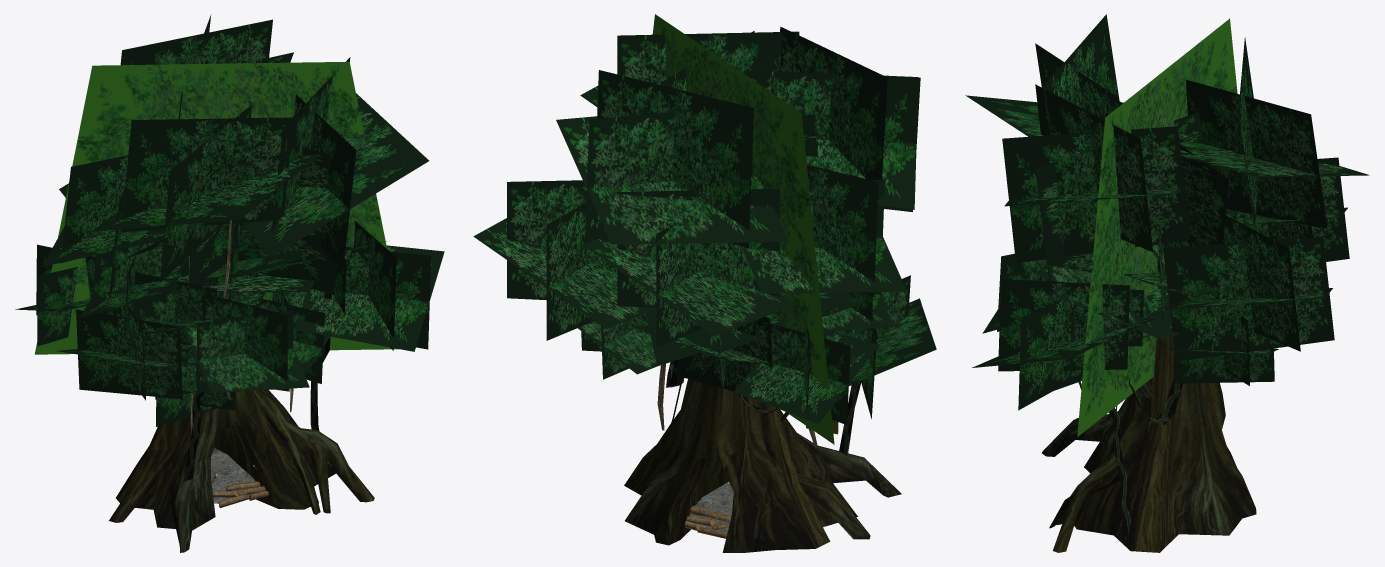
Rendered from tunnelcap_jungle2.fbx.
3 views of the same model, side by side, from view 1: azimuth 30°, elevation 25°; view 2: azimuth 150°, elevation 25°; view 3: azimuth 270°, elevation 25° (orthographic). The views are drawn at different scales.
Visible parts, largest first — view 1: pPlane1, leaf16, big_tree_trunk_trunk, leaf10, leaf17, leaf7, leaf20, leaf12, leaf21, leaf2, leaf15, leaf19 (+11 smaller); view 2: leaf21, big_tree_trunk_trunk, leaf16, pPlane1, leaf9, leaf11, leaf12, leaf19, leaf10, leaf20, leaf8, leaf4 (+5 smaller); view 3: big_tree_trunk_trunk, leaf10, leaf11, pPlane1, leaf21, leaf17, leaf16, leaf9, leaf4, leaf22, leaf15, leaf14 (+6 smaller).
Part boxes in pixels (x1,y1,x2,y2): pPlane1: [34, 61, 399, 354]; leaf16: [91, 105, 321, 282]; big_tree_trunk_trunk: [109, 263, 374, 552]; leaf10: [243, 57, 429, 270]; leaf17: [295, 221, 444, 351]; leaf7: [180, 293, 309, 393]; leaf20: [57, 293, 196, 400]; leaf12: [42, 155, 164, 298]; leaf21: [120, 14, 293, 119]; leaf2: [79, 241, 187, 337]; leaf15: [225, 147, 336, 294]; leaf19: [15, 244, 113, 346]; leaf21: [556, 70, 788, 248]; big_tree_trunk_trunk: [624, 332, 901, 552]; leaf16: [745, 26, 920, 211]; pPlane1: [652, 14, 834, 444]; leaf9: [584, 188, 792, 347]; leaf11: [473, 180, 656, 340]; leaf12: [740, 164, 906, 296]; leaf19: [734, 319, 878, 424]; leaf10: [580, 31, 799, 107]; leaf20: [827, 275, 936, 418]; leaf8: [632, 317, 775, 396]; leaf4: [578, 314, 657, 379]; big_tree_trunk_trunk: [1042, 337, 1256, 552]; leaf10: [1002, 84, 1190, 263]; leaf11: [1163, 215, 1334, 361]; pPlane1: [1077, 18, 1237, 436]; leaf21: [1174, 37, 1369, 228]; leaf17: [972, 279, 1156, 410]; leaf16: [965, 14, 1119, 136]; leaf9: [1189, 157, 1349, 261]; leaf4: [1167, 315, 1278, 385]; leaf22: [1119, 101, 1228, 245]; leaf15: [1035, 112, 1202, 281]; leaf14: [1048, 265, 1160, 339].
Size of the model in its own units: 16113 by 18239 by 15414.
Materials: 3 (3 with a texture image).
